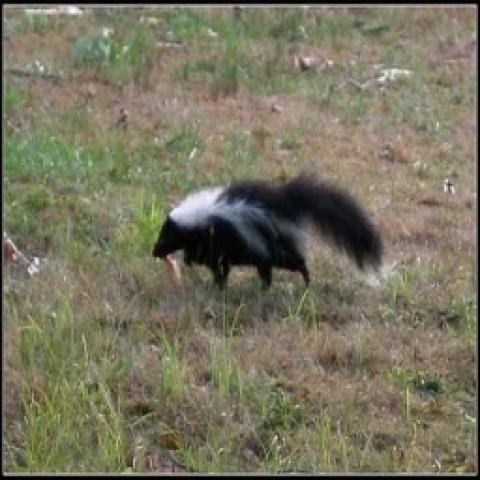small_animal: (148, 170, 384, 294)
